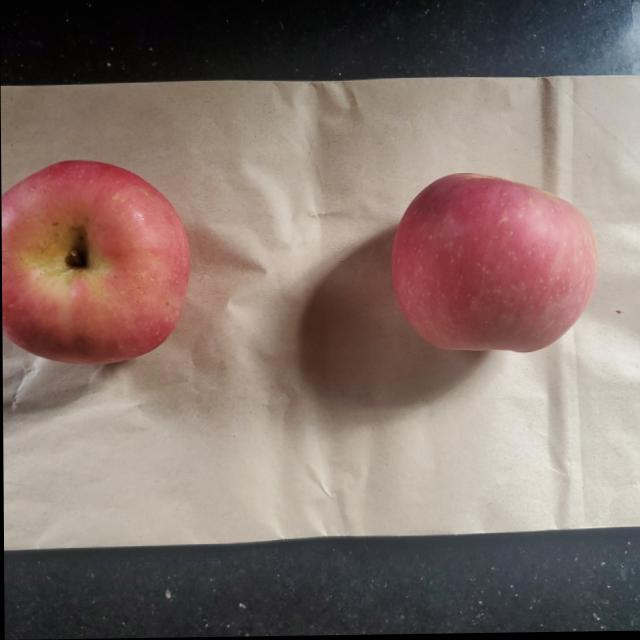apple: (4, 160, 194, 366), (395, 175, 603, 359)
